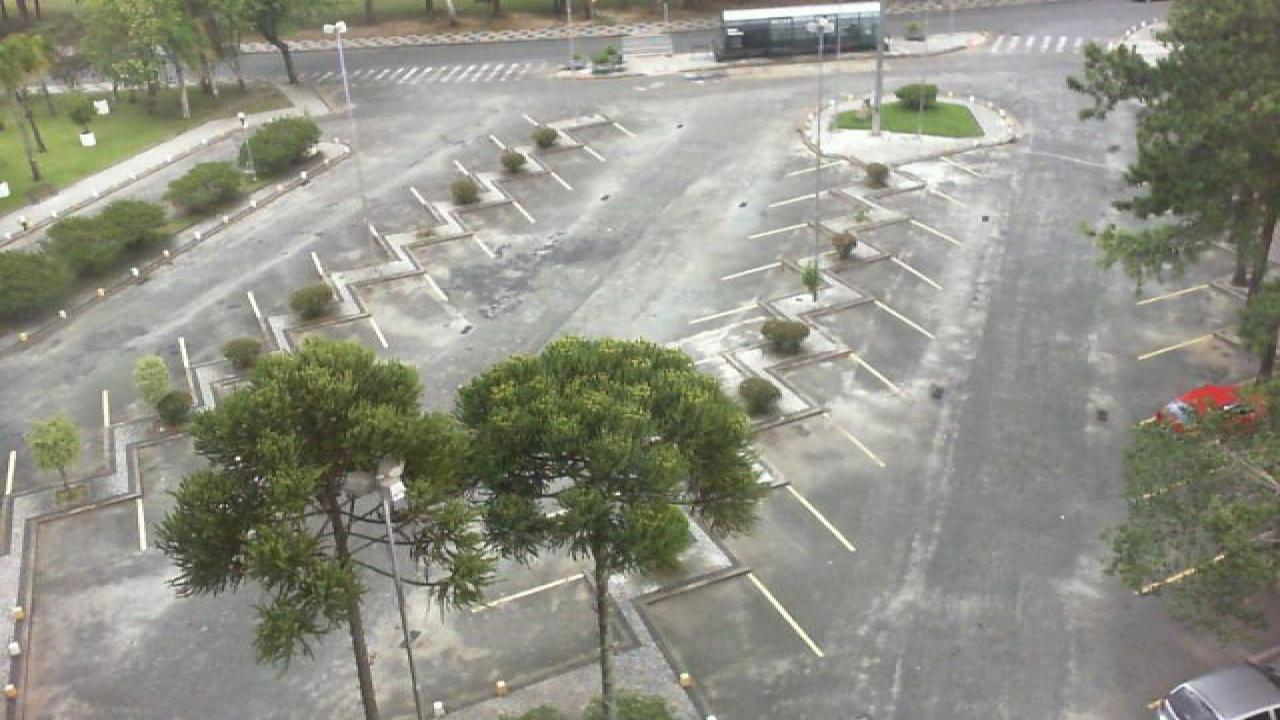Car: (1152, 664, 1280, 720), (1156, 382, 1264, 434)
